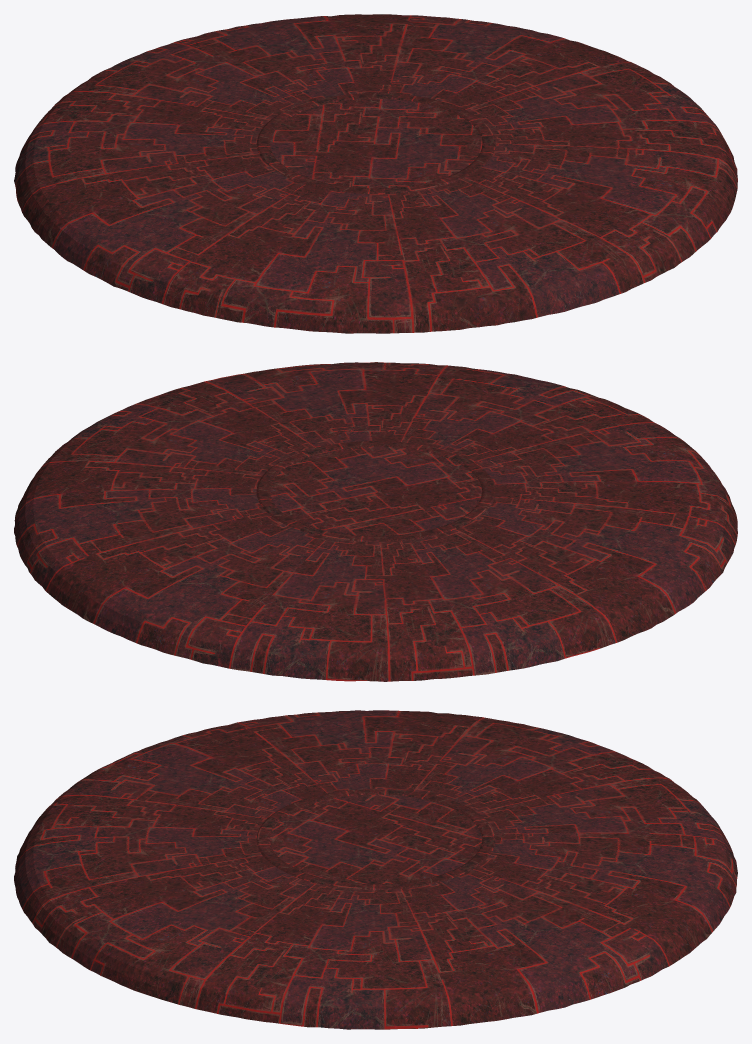
Rendered from BossFloor.fbx.
The picture shows the model from 3 angles, top to bottom: view 1: azimuth 30°, elevation 25°; view 2: azimuth 150°, elevation 25°; view 3: azimuth 270°, elevation 25°; orthographic projection.
Parts seen in each view (by area): view 1: SM_ENV_NATURE_Cave_BossFloor.mo; view 2: SM_ENV_NATURE_Cave_BossFloor.mo; view 3: SM_ENV_NATURE_Cave_BossFloor.mo.
Part boxes in pixels (x1,y1,x2,y2): SM_ENV_NATURE_Cave_BossFloor.mo: (14,14,737,333); SM_ENV_NATURE_Cave_BossFloor.mo: (14,362,737,681); SM_ENV_NATURE_Cave_BossFloor.mo: (14,710,737,1029).
Size of the model in its own units: 4986 by 292 by 4987.
Materials: 1 (1 with a texture image).
